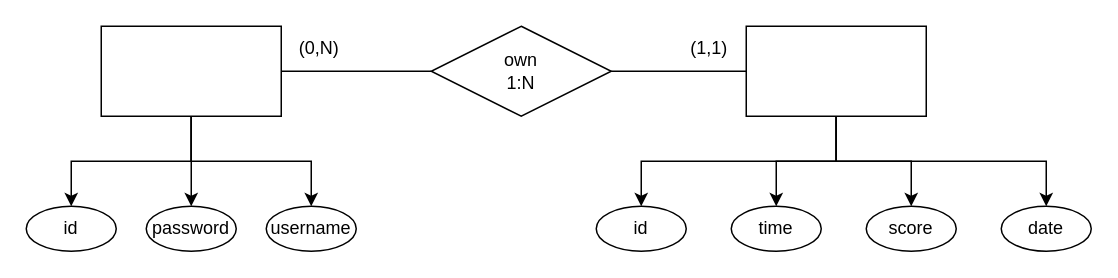
The diagram is 1118 pixels wide and 278 high, and some of its shapes have lost their labels. The shapes that lost their labels are listed below. From the top down, each one's centre as x and y in pixels, then its label:
At pixel 190 70: "User".
At pixel 835 70: "Result".
